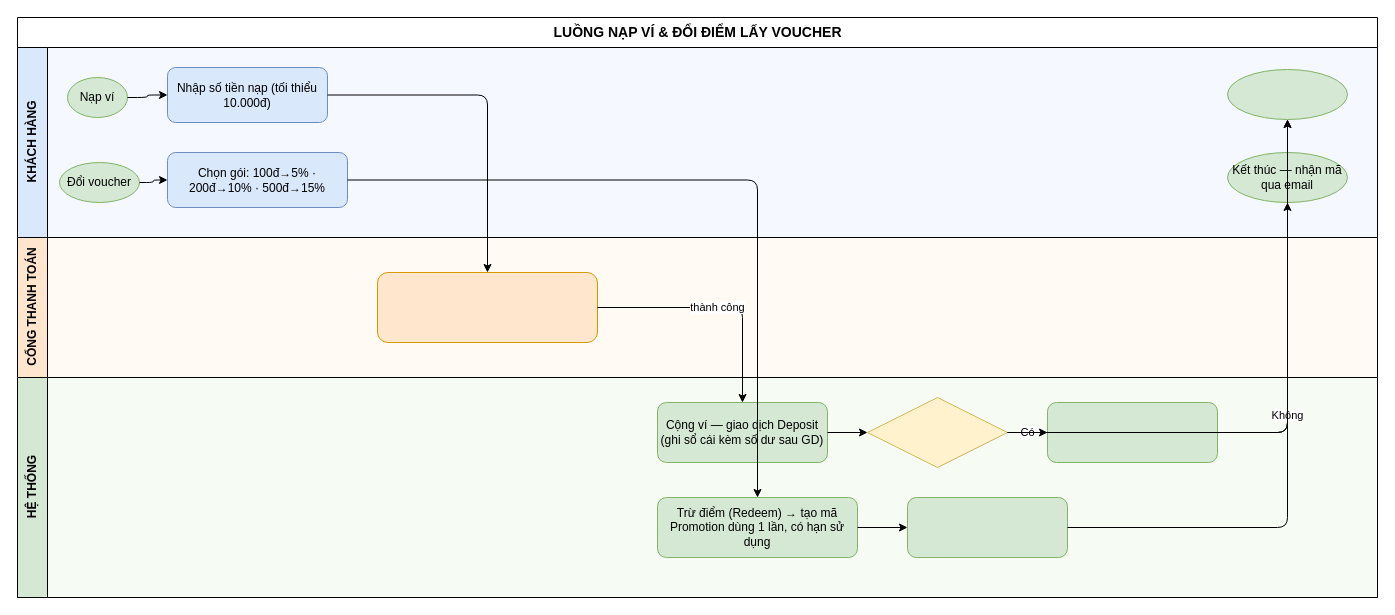
This 1395x615 diagram has some shape labels left out. Here are the shapes that lost their labels. From the top down, the centre of each, then its label:
At (1287,94): "Kết thúc — số dư ví tăng".
At (487,307): "VNPay sandbox / cổng demo: khách xác nhận thanh toán → xác thực kết quả".
At (937,432): "Đạt mốc khuyến mãi nạp?".
At (1132,432): "+Bonus: nạp từ 200k tặng 15k, từ 500k tặng 50k".
At (987,527): "Gửi mã voucher về email của khách".
